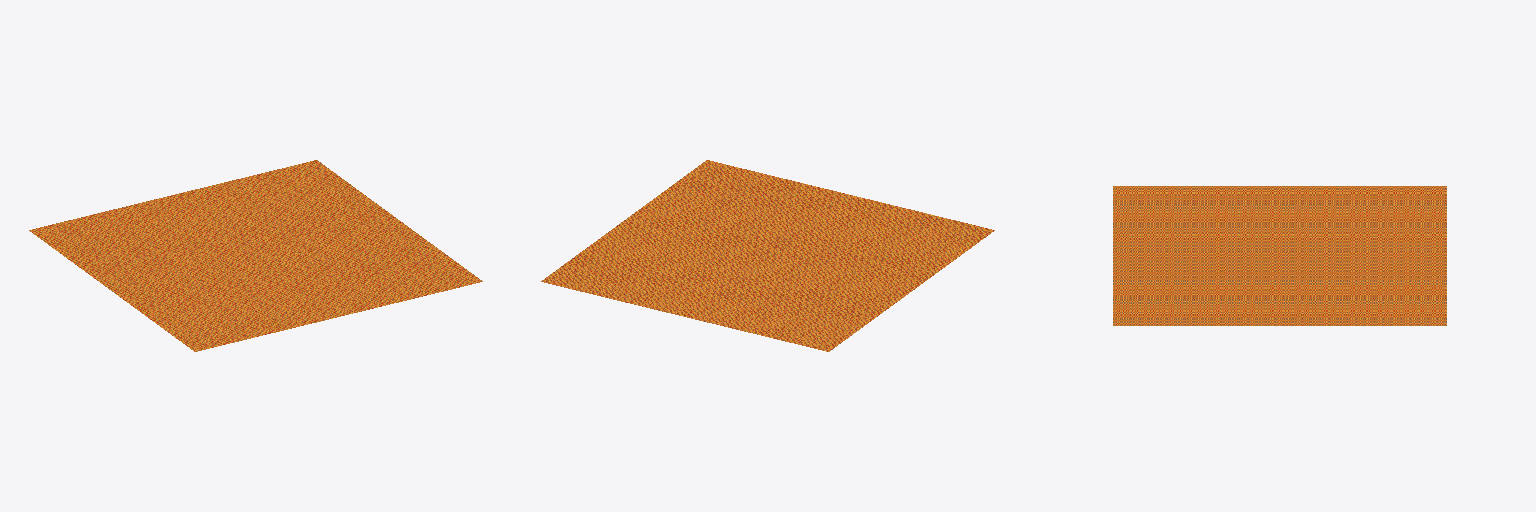
The picture shows the model from 3 angles: view 1: azimuth 30°, elevation 25°; view 2: azimuth 150°, elevation 25°; view 3: azimuth 270°, elevation 25°; orthographic projection.
Visible parts, largest first — view 1: Plane; view 2: Plane; view 3: Plane.
Boxes of the visible parts, <box> form: Plane: <box>29,160,482,351</box>; Plane: <box>541,160,994,351</box>; Plane: <box>1113,186,1446,325</box>.
Bounding box in the file's own units: 20 × 0 × 20.
1 materials, 1 textured.